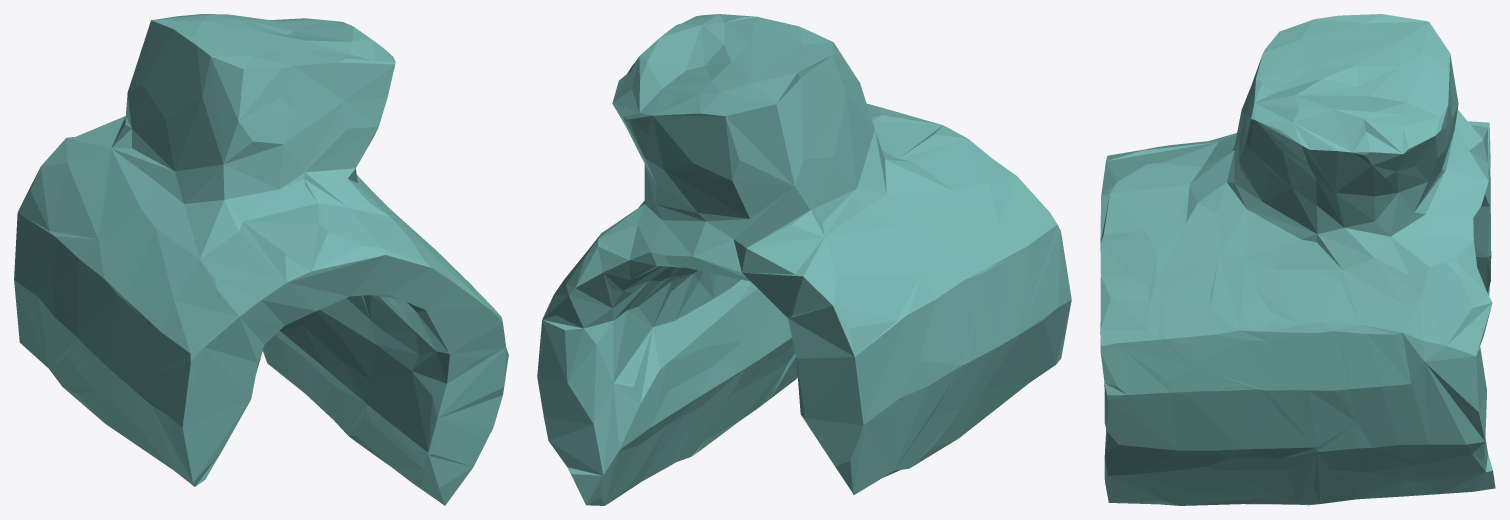
The model's file is figurine-3.glb.
3 renders of one model, left to right at view 1: azimuth 30°, elevation 25°; view 2: azimuth 150°, elevation 25°; view 3: azimuth 270°, elevation 25°, orthographic. The views are drawn at different scales.
Visible parts, largest first — view 1: part_03; view 2: part_03; view 3: part_03.
Boxes of the visible parts, left/top/right/bottom form: part_03: left=14, top=14, right=508, bottom=505; part_03: left=537, top=14, right=1071, bottom=505; part_03: left=1100, top=14, right=1495, bottom=505.
Size of the model in its own units: 0.1102 by 0.1311 by 0.111.
